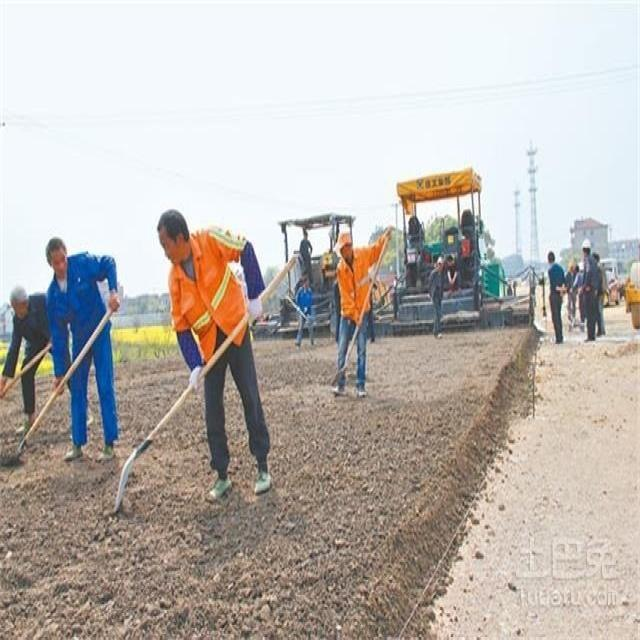helmet: (156, 277, 193, 360), (44, 308, 68, 372), (7, 377, 29, 431), (336, 304, 354, 352), (580, 316, 592, 341)
vest: (167, 322, 257, 478), (340, 330, 381, 426)
